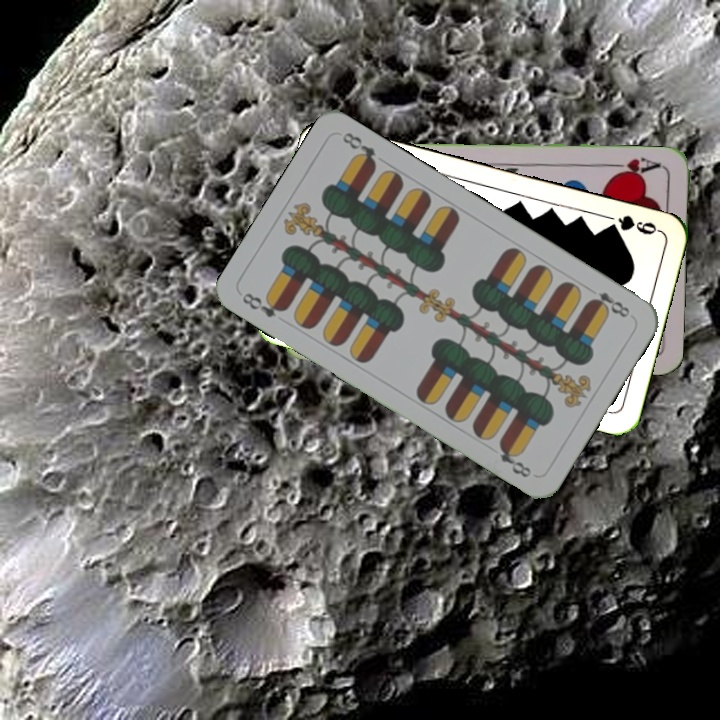E8: (238, 288, 289, 320), (585, 287, 633, 320)
G9: (602, 211, 663, 238)
HA: (605, 154, 663, 180)
